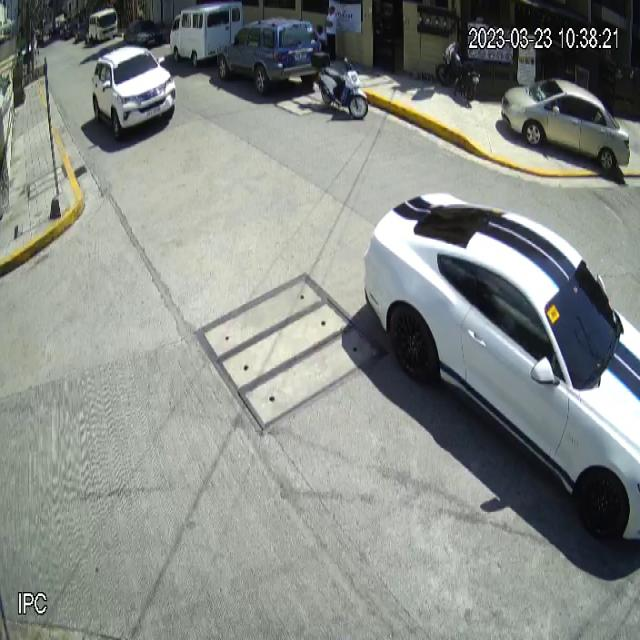Car: (362, 190, 640, 548), (501, 79, 631, 172), (217, 16, 323, 96), (91, 44, 177, 140)
Motorcycle: (309, 49, 369, 120)
Van: (169, 0, 243, 67)
